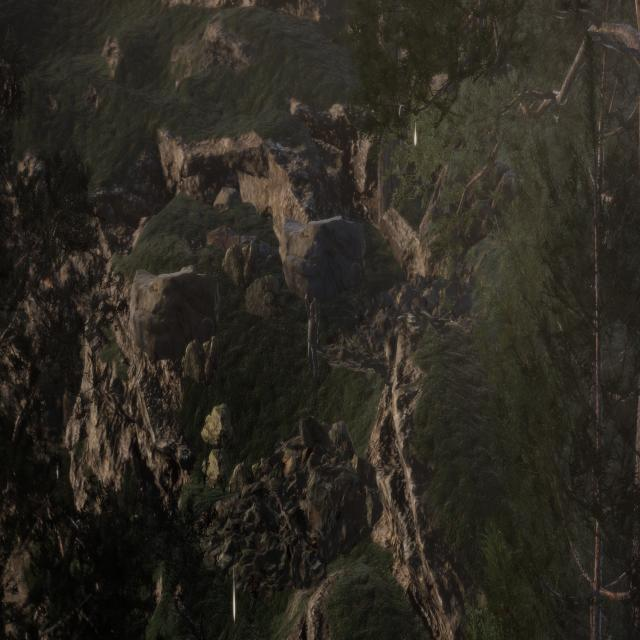Human: (297, 282, 330, 393)
